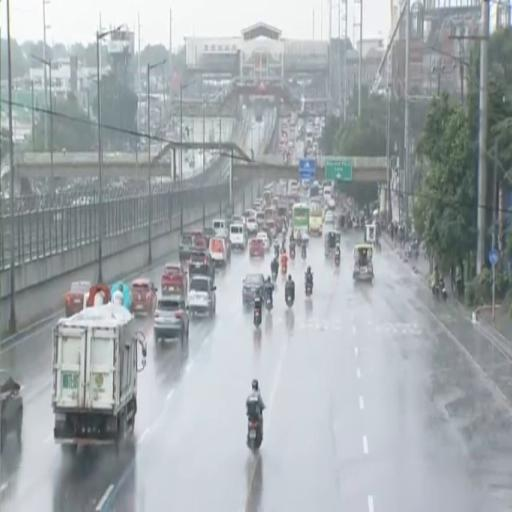bus: (292, 203, 309, 237), (309, 201, 323, 235)
car: (0, 370, 22, 452), (154, 295, 189, 344), (188, 276, 216, 316), (131, 278, 157, 315), (65, 281, 91, 316), (179, 231, 207, 262), (161, 263, 187, 296), (189, 250, 215, 281), (243, 274, 264, 305), (210, 237, 230, 265), (230, 223, 246, 249), (249, 238, 264, 258), (256, 232, 270, 250), (246, 216, 259, 234), (264, 219, 276, 238), (203, 228, 215, 246), (242, 210, 256, 221), (324, 211, 334, 225), (256, 212, 264, 228), (231, 216, 245, 225)
motorcycle: (248, 416, 262, 451), (433, 279, 447, 301), (254, 301, 261, 328), (286, 291, 294, 307), (266, 296, 272, 312), (306, 281, 312, 296), (334, 252, 340, 266), (290, 244, 295, 259), (301, 246, 306, 260), (282, 261, 287, 275), (274, 245, 279, 257), (272, 271, 277, 281)
truck: (52, 303, 146, 452)
